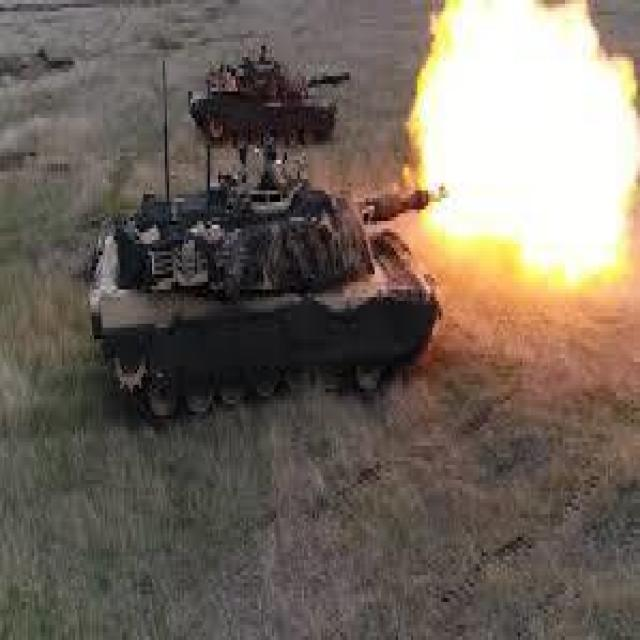Tanks: (83, 174, 444, 390), (190, 61, 352, 149)
